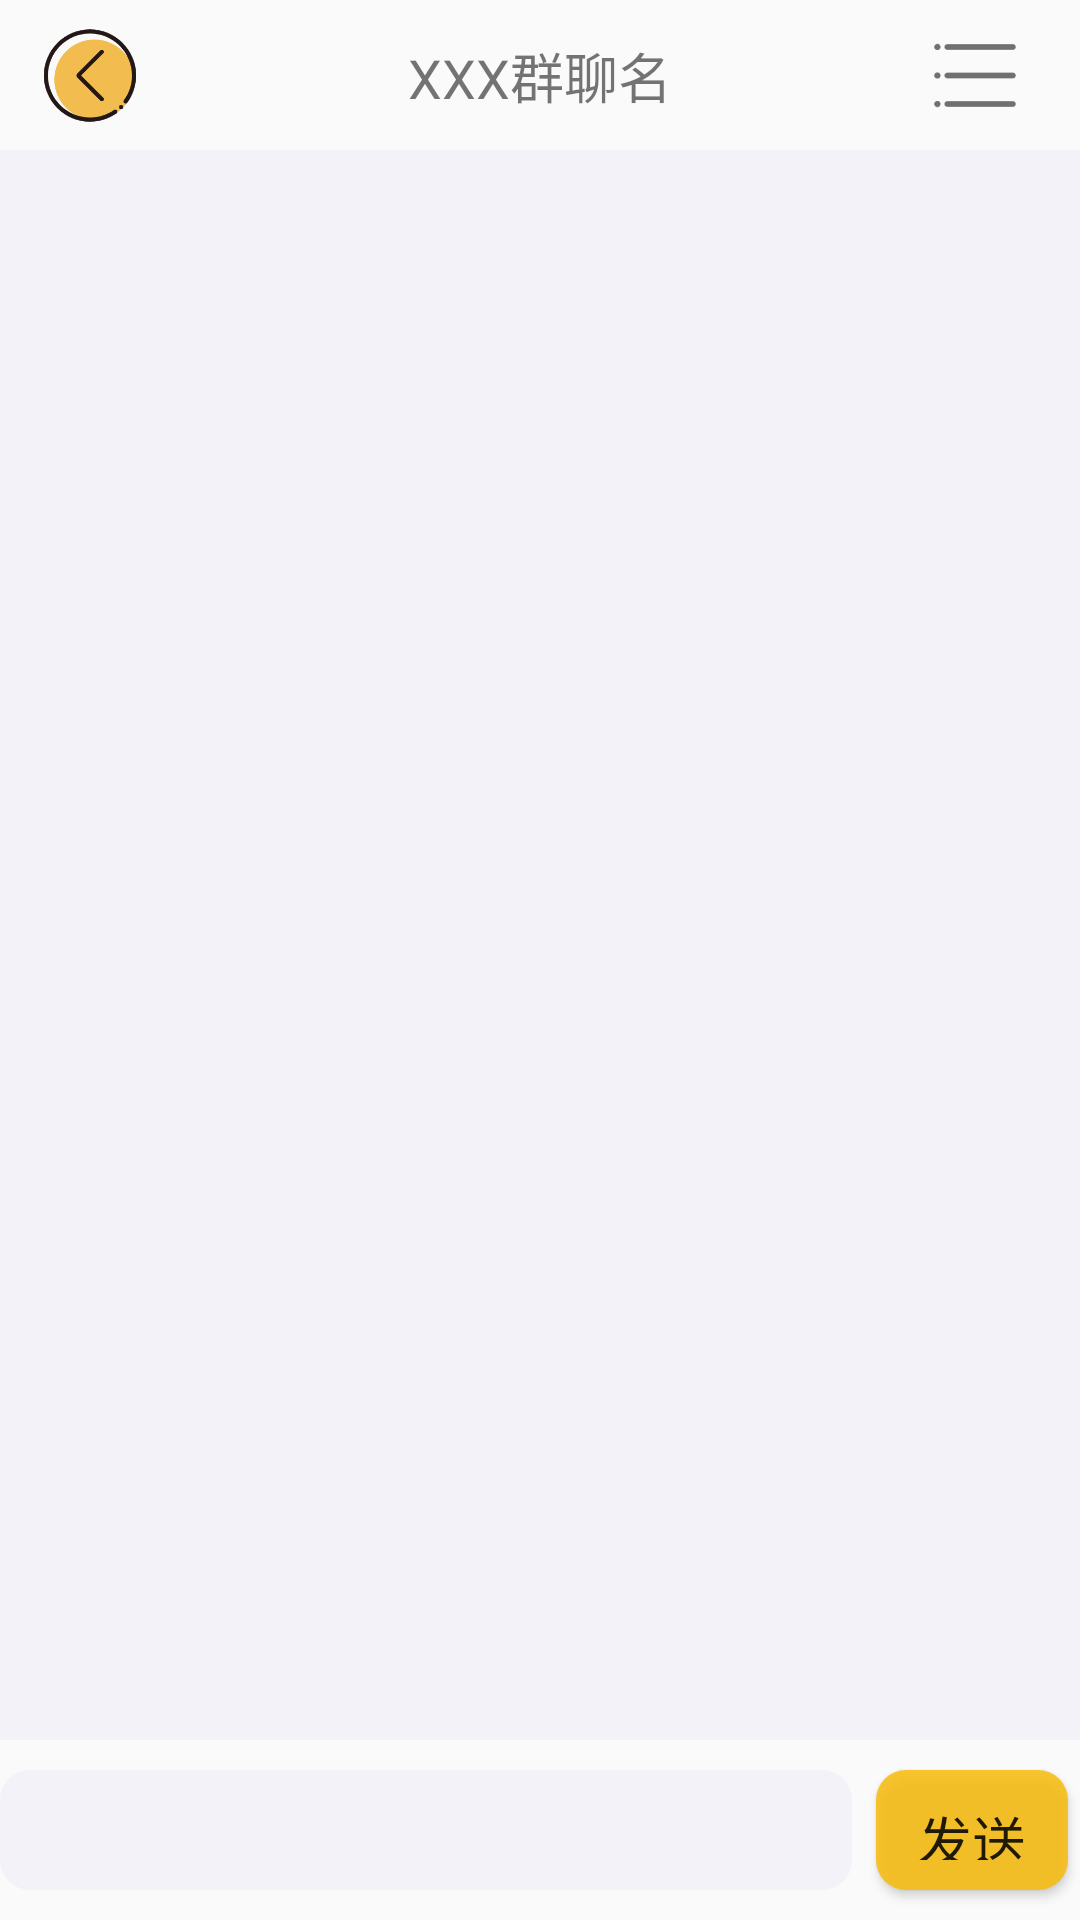

Icon bounding boxes for this 1080w x 1920h phone screenshot, format (x1, y1, x2, y2):
fanhui: (44, 29, 136, 122)
group chatlist: (934, 43, 1016, 108)
